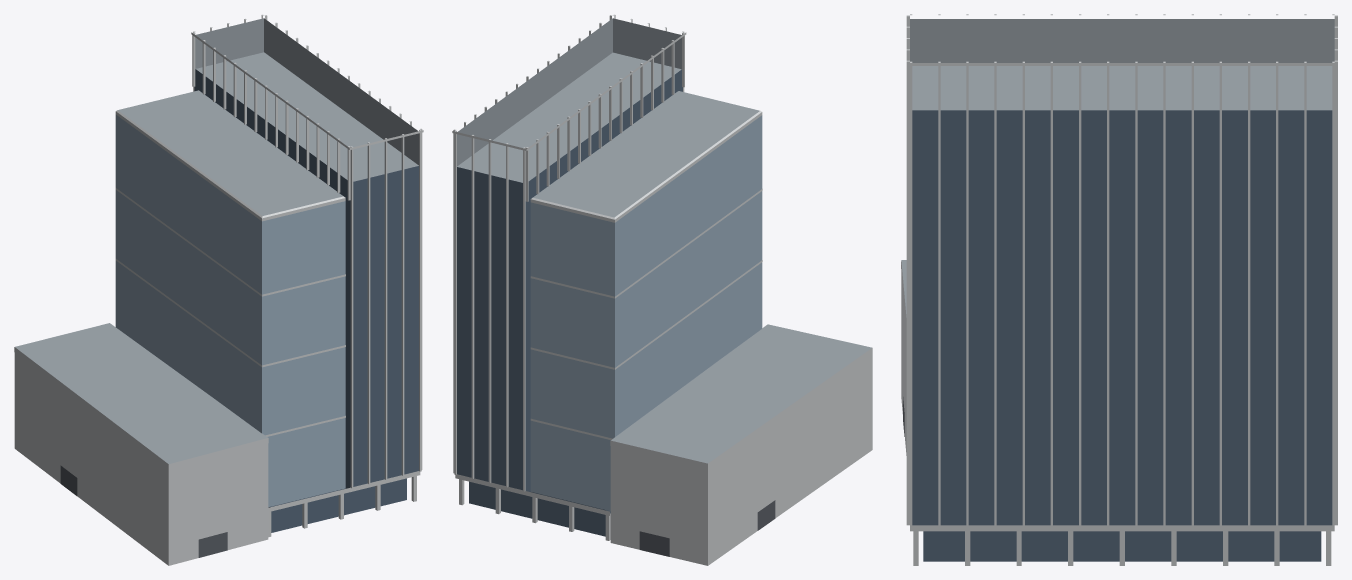
File: ric-gateway-plaza.glb
3 renders of one model, left to right at view 1: azimuth 30°, elevation 25°; view 2: azimuth 150°, elevation 25°; view 3: azimuth 270°, elevation 25°, orthographic. The views are drawn at different scales.
Parts seen in each view (by area): view 1: Gateway Plaza; view 2: Gateway Plaza; view 3: Gateway Plaza.
Part boxes in pixels (<box>): Gateway Plaza: <box>14,14,423,565</box>; Gateway Plaza: <box>452,14,872,565</box>; Gateway Plaza: <box>901,14,1337,565</box>.
Bounding box in the file's own units: 60.86 × 84.1 × 65.86.
